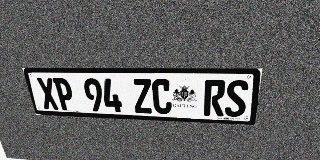4: (100, 78, 123, 112)
9: (82, 78, 105, 112)
C: (151, 79, 172, 114)
P: (52, 78, 76, 110)
R: (204, 80, 226, 116)
S: (224, 80, 249, 117)
X: (36, 78, 60, 110)
Z: (132, 79, 153, 114)
